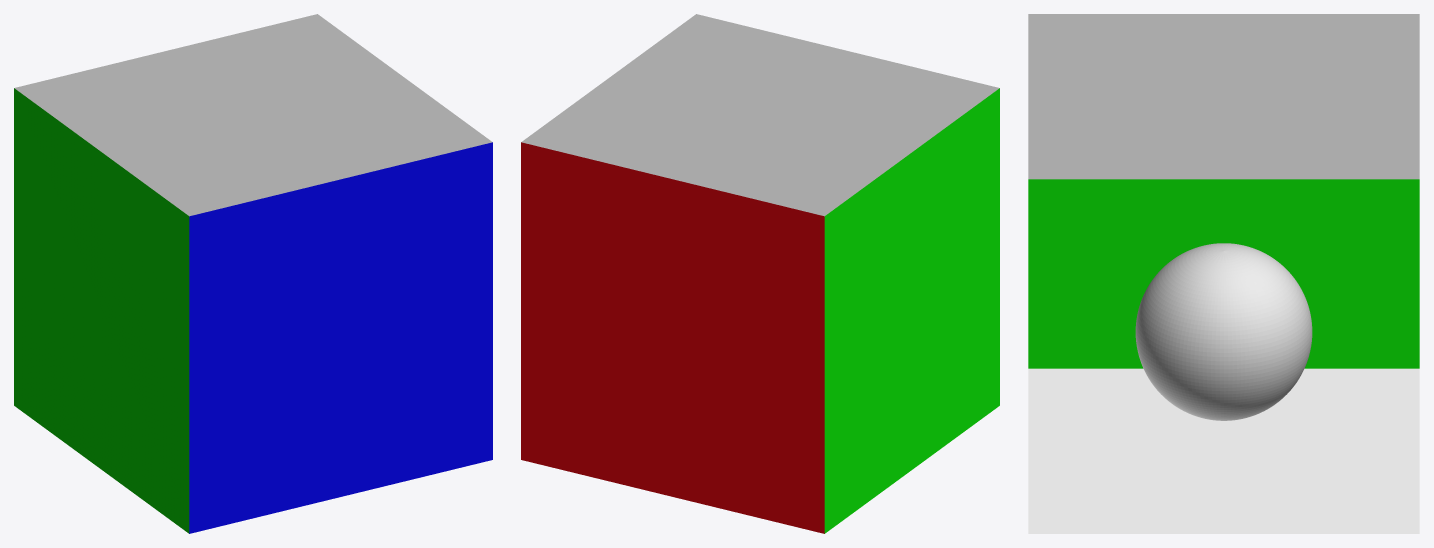
The picture shows the model from 3 angles, left to right: view 1: azimuth 30°, elevation 25°; view 2: azimuth 150°, elevation 25°; view 3: azimuth 270°, elevation 25°; orthographic projection. The views are drawn at different scales.
Visible parts, largest first — view 1: Plane.001, Plane.002, Plane.004; view 2: Plane.003, Plane.002, Plane.004; view 3: Plane.004, Plane, Plane.002, Sphere.
Boxes of the visible parts, left/top/right/bottom form: Plane.001: left=189, top=142, right=492, bottom=533; Plane.002: left=14, top=88, right=189, bottom=533; Plane.004: left=14, top=14, right=492, bottom=216; Plane.003: left=521, top=142, right=824, bottom=533; Plane.002: left=824, top=88, right=999, bottom=533; Plane.004: left=521, top=14, right=999, bottom=216; Plane.004: left=1028, top=14, right=1419, bottom=179; Plane: left=1028, top=368, right=1419, bottom=533; Plane.002: left=1028, top=179, right=1419, bottom=368; Sphere: left=1135, top=243, right=1312, bottom=420.
Size of the model in its own units: 40 by 40 by 40.
